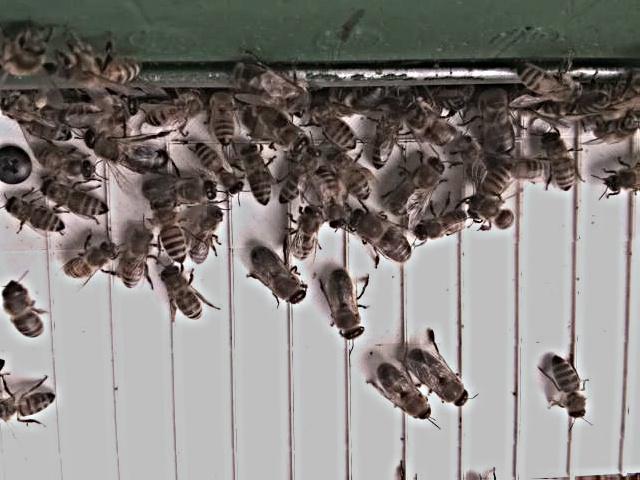Drone: (82, 127, 174, 179), (408, 345, 472, 411), (346, 208, 415, 269), (371, 364, 434, 426), (249, 245, 310, 309), (390, 157, 446, 220), (327, 267, 367, 345), (482, 85, 519, 160), (141, 174, 220, 207)
Worker: (194, 141, 248, 200), (30, 140, 97, 182), (38, 183, 114, 219), (150, 205, 194, 267), (540, 128, 578, 198), (118, 228, 158, 294), (552, 355, 589, 426), (4, 198, 70, 236), (368, 112, 407, 176), (0, 388, 62, 428), (62, 244, 121, 285), (164, 270, 206, 327), (412, 208, 469, 248), (245, 142, 276, 213), (191, 207, 225, 268)
